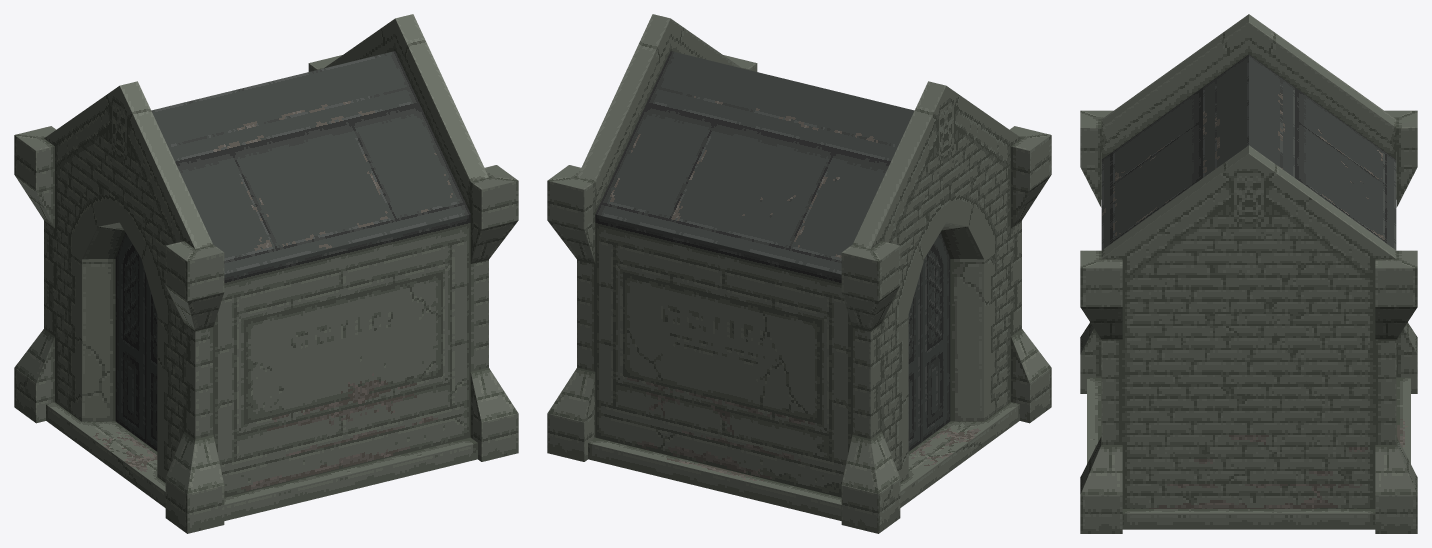
The model's file is MausLarge3.glb.
3 renders of one model, left to right at view 1: azimuth 30°, elevation 25°; view 2: azimuth 150°, elevation 25°; view 3: azimuth 270°, elevation 25°, orthographic. The views are drawn at different scales.
Parts seen in each view (by area): view 1: MausLarge3; view 2: MausLarge3; view 3: MausLarge3.
Part boxes in pixels (x1,y1,x2,y2): MausLarge3: (14, 14, 518, 533); MausLarge3: (547, 14, 1051, 533); MausLarge3: (1080, 14, 1417, 533).
Bounding box in the file's own units: 17.53 × 19.23 × 15.85.
Materials: 1 (1 with a texture image).
